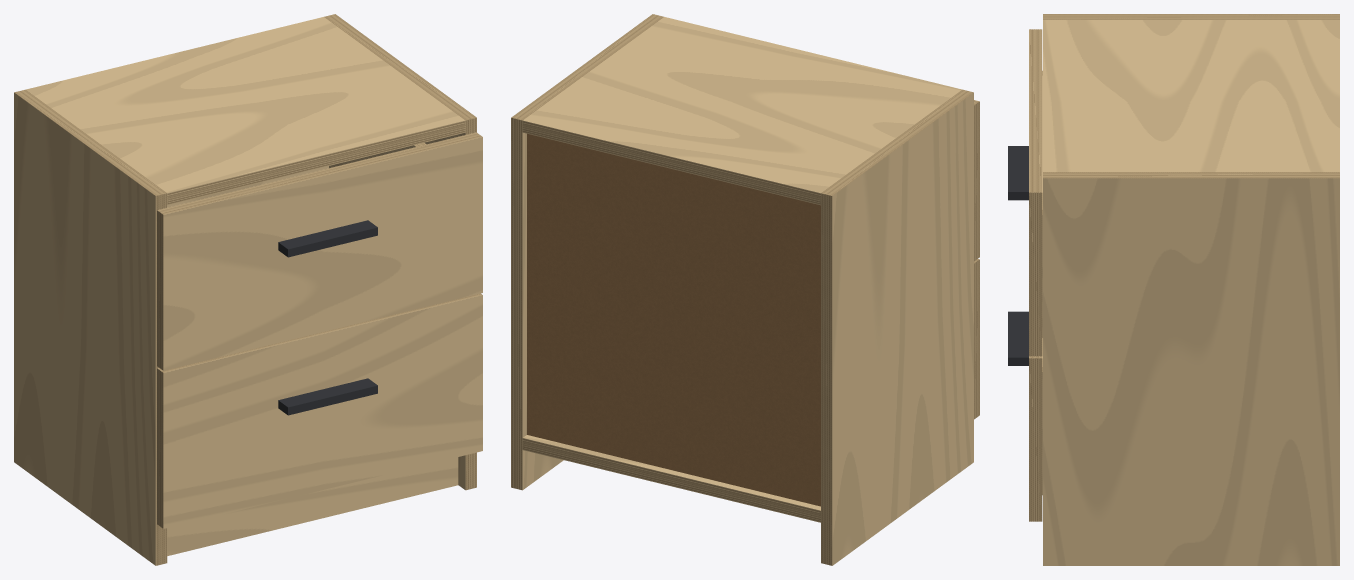
Rendered from SAB-NST-std.glb.
3 renders of one model, left to right at view 1: azimuth 30°, elevation 25°; view 2: azimuth 150°, elevation 25°; view 3: azimuth 270°, elevation 25°, orthographic. The views are drawn at different scales.
Visible parts, largest first — view 1: side-l:sheet:eyJtIjoicGx5Iiwic2lkZSI6ImZhY2UiLCJzZWVkIjoxLCJ, d1-front:sheet:eyJtIjoicGx5Iiwic2lkZSI6ImZhY2UiLCJzZWVkIjoyL, d2-front:sheet:eyJtIjoicGx5Iiwic2lkZSI6ImZhY2UiLCJzZWVkIjo2L, top:sheet:eyJtIjoicGx5Iiwic2lkZSI6ImZhY2UiLCJzZWVkIjo2LCJ2ZW, plinth:sheet:eyJtIjoicGx5Iiwic2lkZSI6ImZhY2UiLCJzZWVkIjozLCJ, top:sheet:eyJtIjoicGx5Iiwic2lkZSI6ImVkZ2UtbG9uZyIsInNlZWQiOj, pull, d2-front:sheet:eyJtIjoicGx5Iiwic2lkZSI6ImVkZ2UtbG9uZyIsInNlZ, side-r:sheet:eyJtIjoicGx5Iiwic2lkZSI6ImVkZ2UtZW5kIiwic2VlZCI, side-l:sheet:eyJtIjoicGx5Iiwic2lkZSI6ImVkZ2UtZW5kIiwic2VlZCI, side-l:sheet:eyJtIjoicGx5Iiwic2lkZSI6ImVkZ2UtbG9uZyIsInNlZWQ, d1-front:sheet:eyJtIjoicGx5Iiwic2lkZSI6ImVkZ2UtZW5kIiwic2VlZ (+3 smaller); view 2: back:sheet:eyJtIjoibWRmIiwic2lkZSI6ImZhY2UiLCJzZWVkIjo0LCJ0a, side-l:sheet:eyJtIjoicGx5Iiwic2lkZSI6ImZhY2UiLCJzZWVkIjoxLCJ, top:sheet:eyJtIjoicGx5Iiwic2lkZSI6ImZhY2UiLCJzZWVkIjo2LCJ2ZW, side-r:sheet:eyJtIjoicGx5Iiwic2lkZSI6ImVkZ2UtbG9uZyIsInNlZWQ, side-l:sheet:eyJtIjoicGx5Iiwic2lkZSI6ImVkZ2UtbG9uZyIsInNlZWQ, bottom:sheet:eyJtIjoicGx5Iiwic2lkZSI6ImVkZ2UtbG9uZyIsInNlZWQ, top:sheet:eyJtIjoicGx5Iiwic2lkZSI6ImVkZ2UtbG9uZyIsInNlZWQiOj, side-r:sheet:eyJtIjoicGx5Iiwic2lkZSI6ImZhY2UiLCJzZWVkIjozLCJ, side-l:sheet:eyJtIjoicGx5Iiwic2lkZSI6ImVkZ2UtZW5kIiwic2VlZCI, side-r:sheet:eyJtIjoicGx5Iiwic2lkZSI6ImVkZ2UtZW5kIiwic2VlZCI, bottom:sheet:eyJtIjoicGx5Iiwic2lkZSI6ImZhY2UiLCJzZWVkIjowLCJ, d1-front:sheet:eyJtIjoicGx5Iiwic2lkZSI6ImVkZ2UtZW5kIiwic2VlZ (+1 smaller); view 3: side-r:sheet:eyJtIjoicGx5Iiwic2lkZSI6ImZhY2UiLCJzZWVkIjozLCJ, top:sheet:eyJtIjoicGx5Iiwic2lkZSI6ImZhY2UiLCJzZWVkIjo2LCJ2ZW, pull, d2-front:sheet:eyJtIjoicGx5Iiwic2lkZSI6ImVkZ2UtZW5kIiwic2VlZ, d1-front:sheet:eyJtIjoicGx5Iiwic2lkZSI6ImVkZ2UtZW5kIiwic2VlZ, d2-front:sheet:eyJtIjoicGx5Iiwic2lkZSI6ImVkZ2UtbG9uZyIsInNlZ, side-r:sheet:eyJtIjoicGx5Iiwic2lkZSI6ImVkZ2UtZW5kIiwic2VlZCI, side-l:sheet:eyJtIjoicGx5Iiwic2lkZSI6ImVkZ2UtZW5kIiwic2VlZCI.
Part boxes in pixels (x1,y1,x2,y2): side-l:sheet:eyJtIjoicGx5Iiwic2lkZSI6ImZhY2UiLCJzZWVkIjoxLCJ: (14,92,155,565); d1-front:sheet:eyJtIjoicGx5Iiwic2lkZSI6ImZhY2UiLCJzZWVkIjoyL: (163,295,482,528); d2-front:sheet:eyJtIjoicGx5Iiwic2lkZSI6ImZhY2UiLCJzZWVkIjo2L: (163,137,482,370); top:sheet:eyJtIjoicGx5Iiwic2lkZSI6ImZhY2UiLCJzZWVkIjo2LCJ2ZW: (26,17,465,193); plinth:sheet:eyJtIjoicGx5Iiwic2lkZSI6ImZhY2UiLCJzZWVkIjozLCJ: (167,457,458,555); top:sheet:eyJtIjoicGx5Iiwic2lkZSI6ImVkZ2UtbG9uZyIsInNlZWQiOj: (167,120,465,205); pull: (278,220,377,415); d2-front:sheet:eyJtIjoicGx5Iiwic2lkZSI6ImVkZ2UtbG9uZyIsInNlZ: (157,132,482,214); side-r:sheet:eyJtIjoicGx5Iiwic2lkZSI6ImVkZ2UtZW5kIiwic2VlZCI: (324,14,476,120); side-l:sheet:eyJtIjoicGx5Iiwic2lkZSI6ImVkZ2UtZW5kIiwic2VlZCI: (14,89,166,195); side-l:sheet:eyJtIjoicGx5Iiwic2lkZSI6ImVkZ2UtbG9uZyIsInNlZWQ: (155,193,167,565); d1-front:sheet:eyJtIjoicGx5Iiwic2lkZSI6ImVkZ2UtZW5kIiwic2VlZ: (157,368,163,528); back:sheet:eyJtIjoibWRmIiwic2lkZSI6ImZhY2UiLCJzZWVkIjo0LCJ0a: (527,133,820,506); side-l:sheet:eyJtIjoicGx5Iiwic2lkZSI6ImZhY2UiLCJzZWVkIjoxLCJ: (832,93,973,565); top:sheet:eyJtIjoicGx5Iiwic2lkZSI6ImZhY2UiLCJzZWVkIjo2LCJ2ZW: (523,17,962,193); side-r:sheet:eyJtIjoicGx5Iiwic2lkZSI6ImVkZ2UtbG9uZyIsInNlZWQ: (511,117,522,490); side-l:sheet:eyJtIjoicGx5Iiwic2lkZSI6ImVkZ2UtbG9uZyIsInNlZWQ: (821,193,832,565); bottom:sheet:eyJtIjoicGx5Iiwic2lkZSI6ImVkZ2UtbG9uZyIsInNlZWQ: (522,438,820,522); top:sheet:eyJtIjoicGx5Iiwic2lkZSI6ImVkZ2UtbG9uZyIsInNlZWQiOj: (522,120,820,205); side-r:sheet:eyJtIjoicGx5Iiwic2lkZSI6ImZhY2UiLCJzZWVkIjozLCJ: (522,133,563,489); side-l:sheet:eyJtIjoicGx5Iiwic2lkZSI6ImVkZ2UtZW5kIiwic2VlZCI: (821,89,973,195); side-r:sheet:eyJtIjoicGx5Iiwic2lkZSI6ImVkZ2UtZW5kIiwic2VlZCI: (511,14,663,120); bottom:sheet:eyJtIjoicGx5Iiwic2lkZSI6ImZhY2UiLCJzZWVkIjowLCJ: (523,435,820,510); d1-front:sheet:eyJtIjoicGx5Iiwic2lkZSI6ImVkZ2UtZW5kIiwic2VlZ: (974,259,979,419); side-r:sheet:eyJtIjoicGx5Iiwic2lkZSI6ImZhY2UiLCJzZWVkIjozLCJ: (1043,178,1339,565); top:sheet:eyJtIjoicGx5Iiwic2lkZSI6ImZhY2UiLCJzZWVkIjo2LCJ2ZW: (1043,20,1339,172); pull: (1008,146,1028,365); d2-front:sheet:eyJtIjoicGx5Iiwic2lkZSI6ImVkZ2UtZW5kIiwic2VlZ: (1029,192,1042,356); d1-front:sheet:eyJtIjoicGx5Iiwic2lkZSI6ImVkZ2UtZW5kIiwic2VlZ: (1029,358,1042,521); d2-front:sheet:eyJtIjoicGx5Iiwic2lkZSI6ImVkZ2UtbG9uZyIsInNlZ: (1029,29,1042,192); side-r:sheet:eyJtIjoicGx5Iiwic2lkZSI6ImVkZ2UtZW5kIiwic2VlZCI: (1043,172,1339,178); side-l:sheet:eyJtIjoicGx5Iiwic2lkZSI6ImVkZ2UtZW5kIiwic2VlZCI: (1043,14,1339,19).
Size of the model in its own units: 0.5 by 0.55 by 0.4267.
55 materials, 54 textured.
